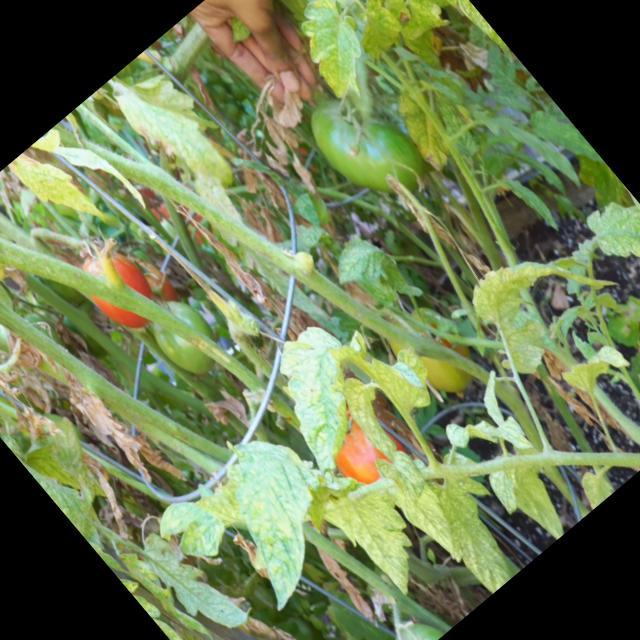Tomato spider mites leaf: (177, 409, 374, 610), (236, 300, 412, 478), (452, 211, 627, 382), (99, 46, 250, 209), (408, 454, 541, 594), (133, 515, 255, 640), (366, 442, 481, 568), (330, 476, 446, 598), (276, 0, 396, 110), (6, 136, 111, 248), (117, 541, 216, 640), (328, 367, 420, 466), (147, 484, 236, 574), (411, 0, 517, 68), (577, 183, 640, 291), (320, 225, 399, 302), (479, 462, 529, 515), (488, 411, 538, 464)
